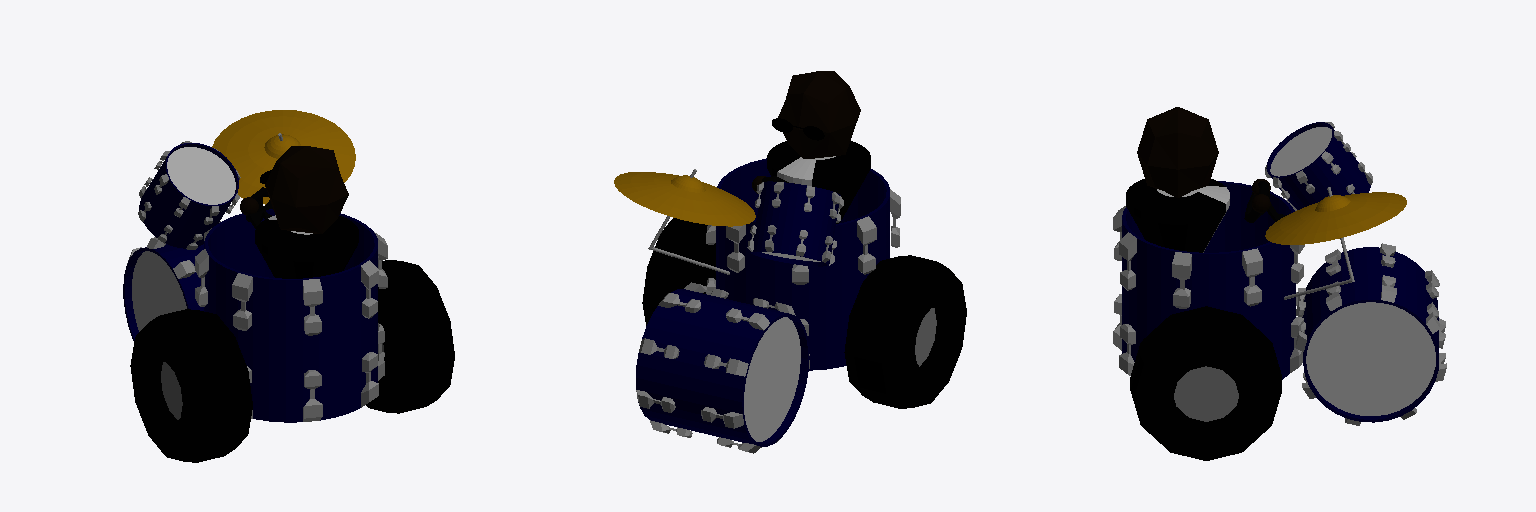
Rendered from franky.obj.
3 views of the same model, side by side, from view 1: azimuth 30°, elevation 25°; view 2: azimuth 150°, elevation 25°; view 3: azimuth 270°, elevation 25° (orthographic).
Visible parts, largest first — view 1: Cylindre, Cube.001_Cube.002, Cube, Cône; view 2: Cylindre, Cube.001_Cube.002, Cube, Cône; view 3: Cylindre, Cube.001_Cube.002, Cône, Cube.
Part boxes in pixels (bbox=[...]): Cylindre: bbox=[123, 110, 387, 422]; Cube.001_Cube.002: bbox=[130, 187, 454, 462]; Cube: bbox=[265, 146, 348, 233]; Cône: bbox=[240, 170, 358, 278]; Cylindre: bbox=[614, 158, 900, 453]; Cube.001_Cube.002: bbox=[642, 176, 966, 408]; Cube: bbox=[778, 71, 860, 158]; Cône: bbox=[752, 118, 870, 223]; Cylindre: bbox=[1113, 122, 1446, 425]; Cube.001_Cube.002: bbox=[1130, 181, 1286, 460]; Cône: bbox=[1126, 179, 1270, 252]; Cube: bbox=[1137, 107, 1218, 197].
Bounding box in the file's own units: 3.03 × 3.38 × 3.46.